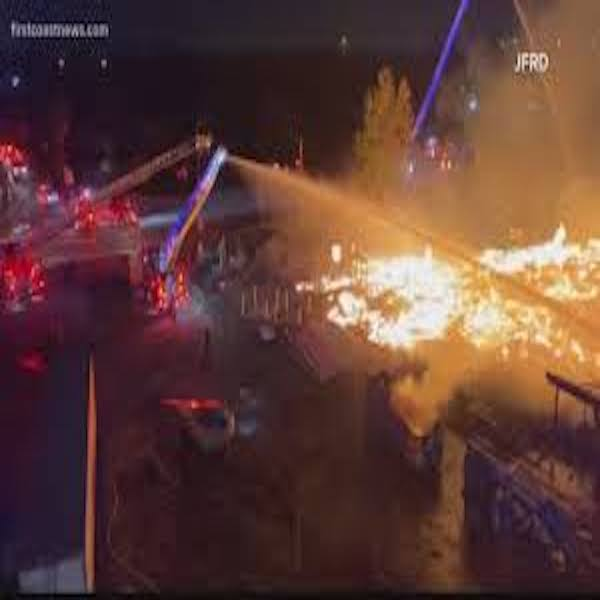fire: (318, 226, 596, 359)
